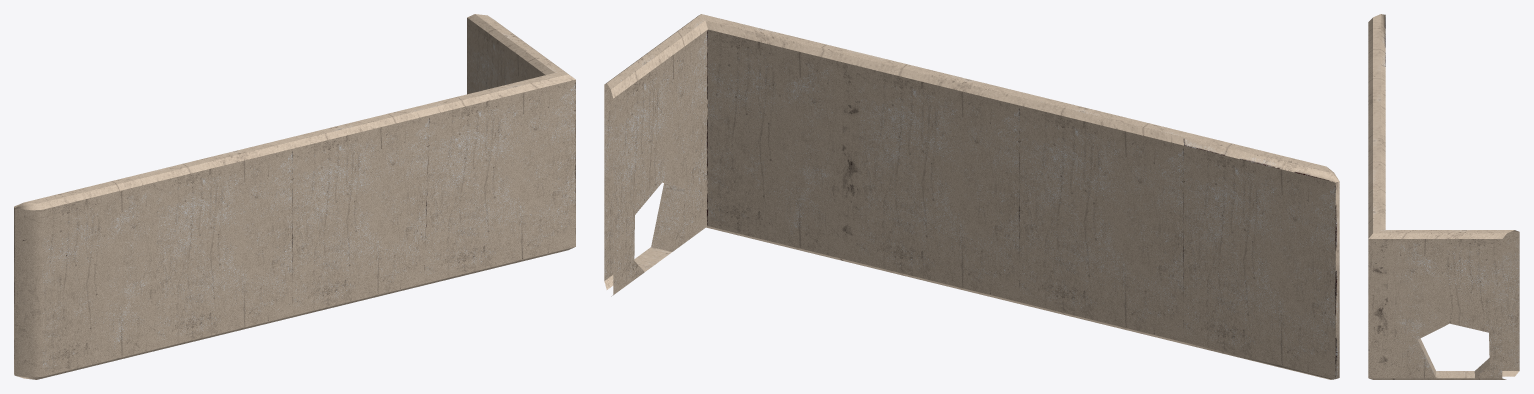
Rendered from Wall07.fbx.
3 renders of one model, left to right at view 1: azimuth 30°, elevation 25°; view 2: azimuth 150°, elevation 25°; view 3: azimuth 270°, elevation 25°, orthographic. The views are drawn at different scales.
Parts seen in each view (by area): view 1: Wall07; view 2: Wall07; view 3: Wall07.
Boxes of the visible parts, box(x1,y1,x2,y2) form: Wall07: box(14, 14, 575, 379); Wall07: box(604, 14, 1339, 379); Wall07: box(1368, 14, 1519, 379).
Bounding box in the file's own units: 1073 × 326 × 305.
